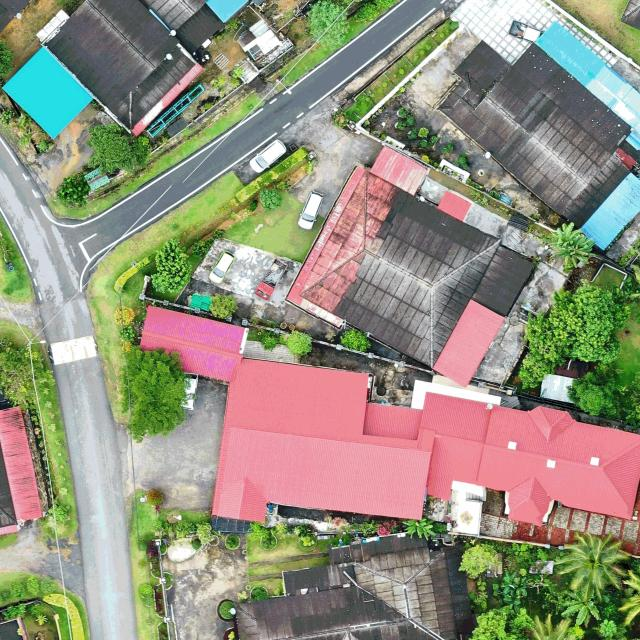Tree: (517, 278, 631, 392), (120, 346, 193, 443), (554, 530, 631, 602), (0, 335, 57, 406), (565, 362, 624, 422), (86, 121, 151, 175), (544, 220, 594, 274), (149, 239, 192, 299), (465, 603, 534, 640), (308, 0, 350, 53), (520, 610, 586, 640), (617, 562, 640, 636), (458, 542, 500, 579), (562, 588, 602, 626), (58, 174, 90, 206), (501, 570, 528, 606), (623, 369, 640, 426), (209, 292, 240, 320), (339, 327, 371, 353), (630, 242, 640, 325), (403, 518, 436, 542), (282, 330, 313, 355), (258, 188, 284, 210)
